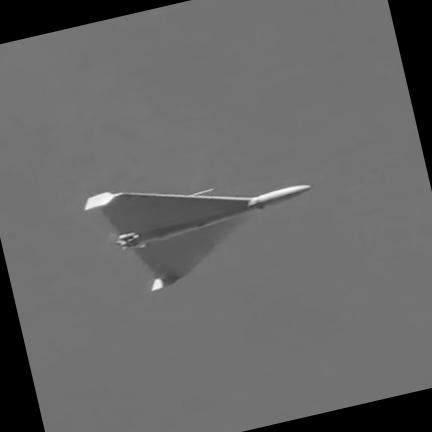Shahed: (84, 183, 311, 290)
